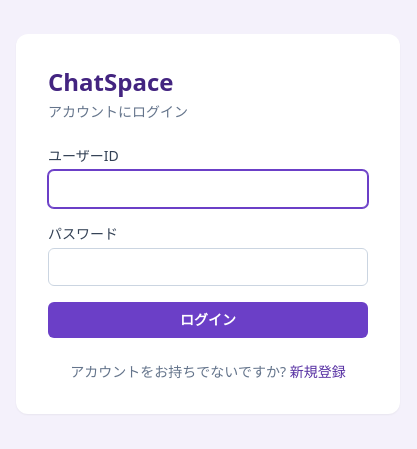
Test: LoginPage › API由来でない例外は定型のエラー文言にする
In the field labelled "ユーザーID": (208, 189) [48, 170, 368, 208], type "alice"
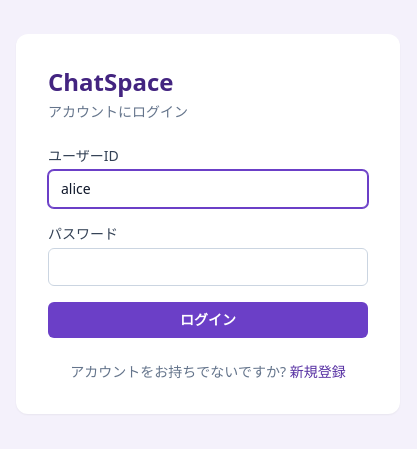
In the password field labelled "パスワード": (208, 267) [48, 248, 368, 286], type "password123"
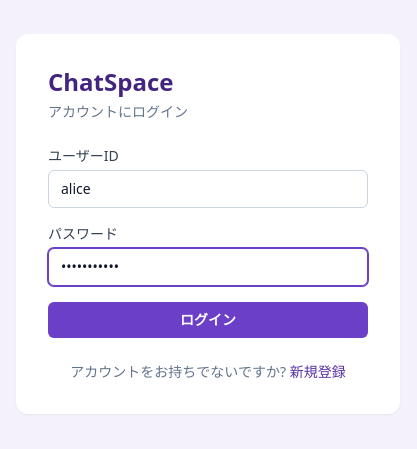
Click the button "ログイン": (208, 320) [48, 302, 368, 338]
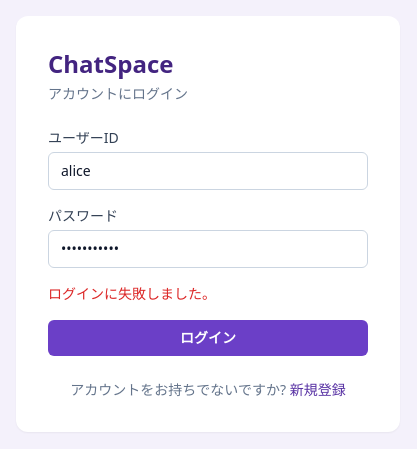
Check: the text "ログインに失敗しました。" is shown, box [48, 284, 216, 303]
